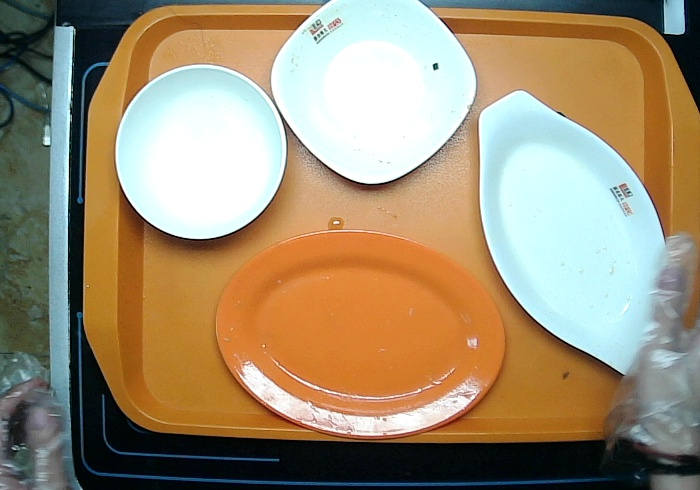NLDX-Bai_Se_Xiao_Fang_Die: (267, 1, 475, 187)
NLDX-Fan_Wan: (112, 63, 289, 242)
NLDX-Ju_Se_Pan: (212, 228, 511, 442)
NLDX-Yu_Pan: (476, 87, 667, 379)
